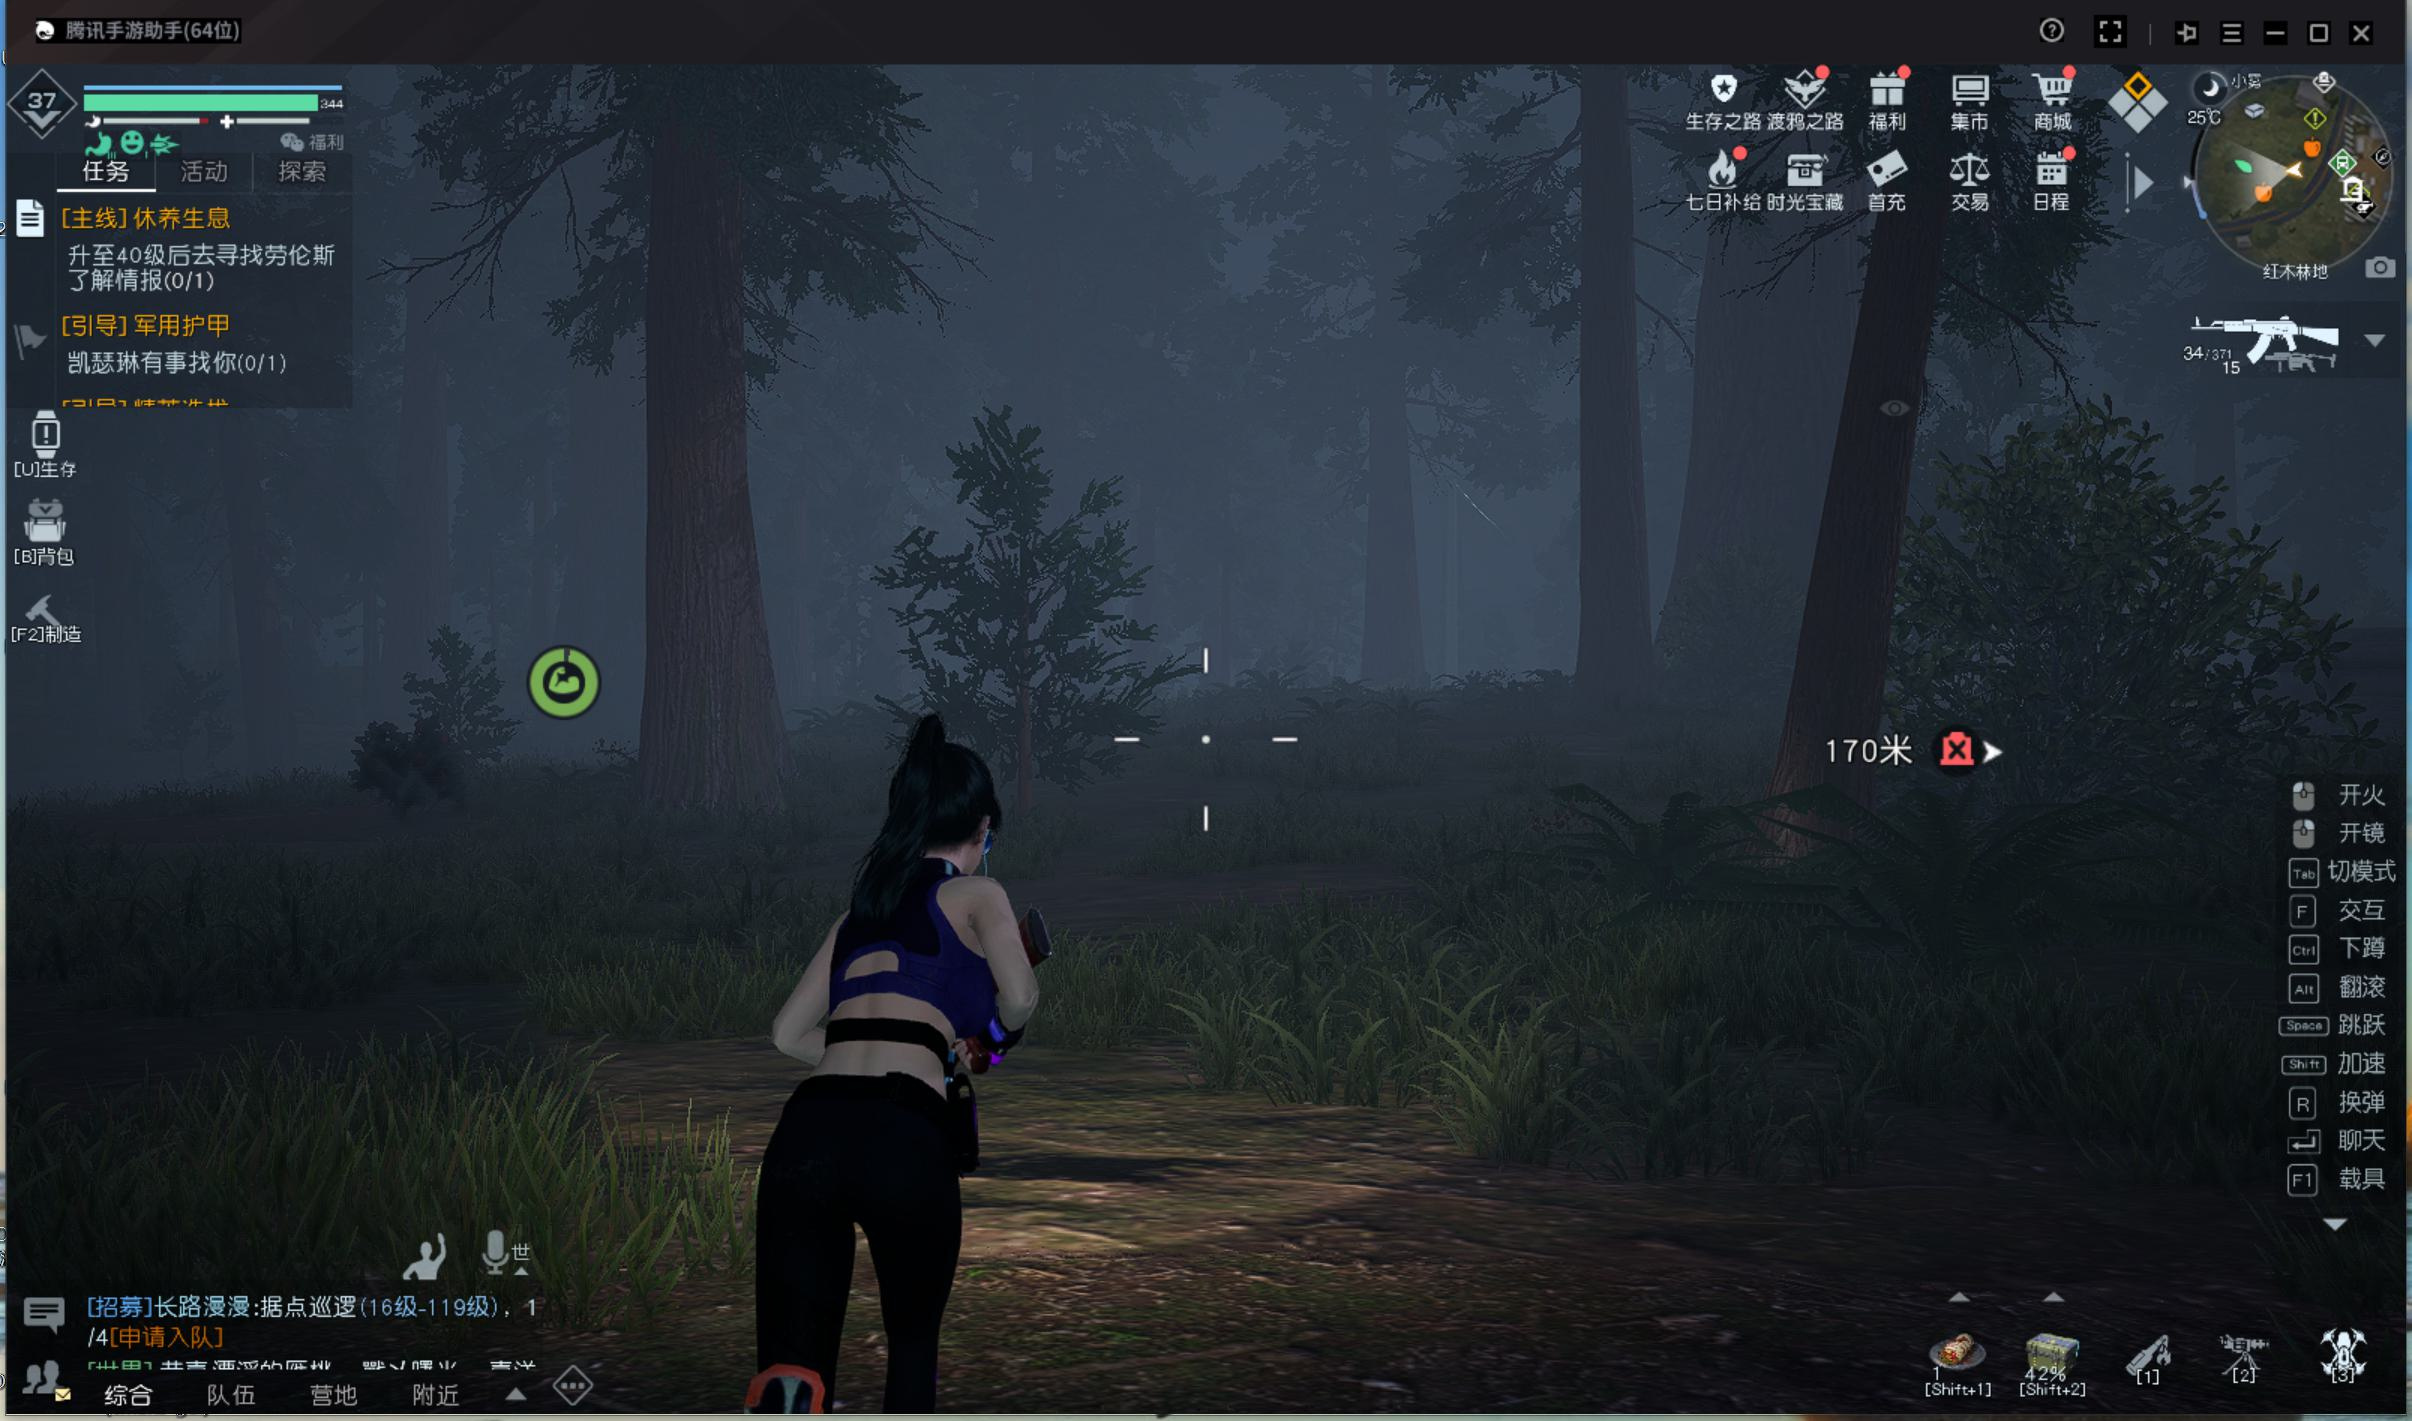tree: (580, 254, 793, 856), (1788, 208, 1928, 805), (1328, 330, 1438, 721), (1568, 281, 1656, 732)
